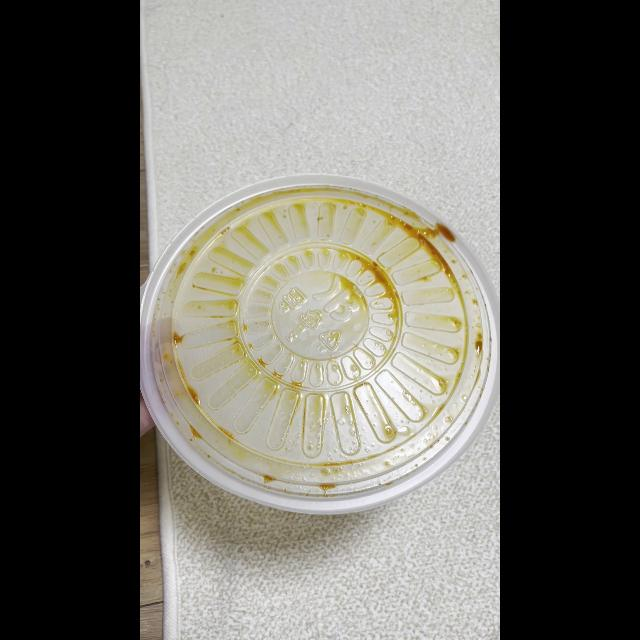dirty: (146, 173, 499, 521)
